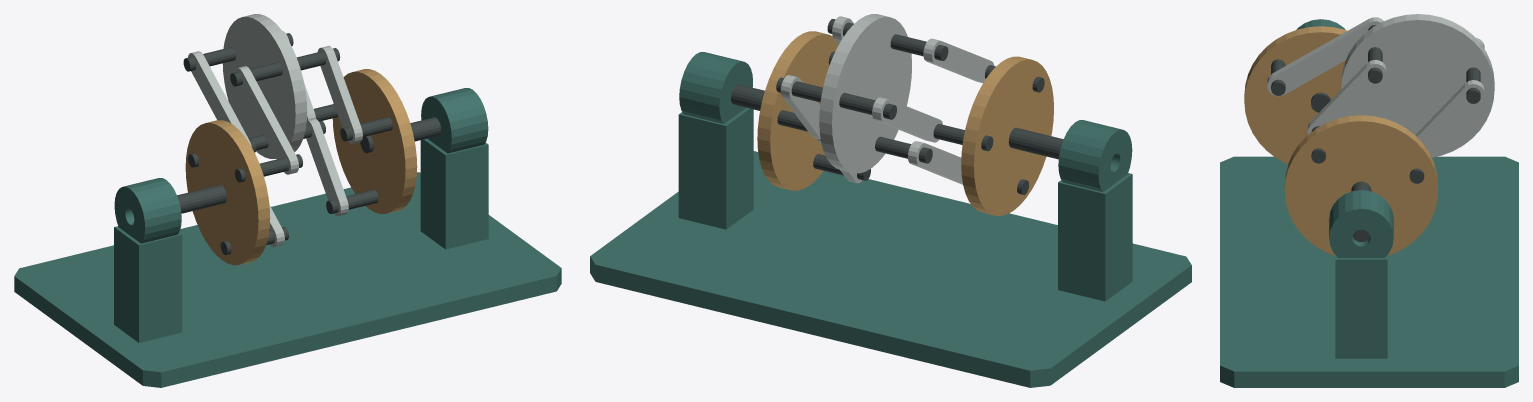
3 views of the same model, side by side, from view 1: azimuth 30°, elevation 25°; view 2: azimuth 150°, elevation 25°; view 3: azimuth 270°, elevation 25° (orthographic). The views are drawn at different scales.
Parts seen in each view (by area): view 1: WholeBroadChamferedBase, WholeOffsetCircularPlate_0, WholeOffsetCircularPlate_2, InputWholePedestal, OutputWholePedestal, WholeOffsetCircularPlate_1, InputWholeBoredBearing, OutputWholeBoredBearing, Layer0WholeLink_1, Layer1WholeLink_1, Layer1WholeLink_2, Layer0WholeLink_0 (+8 smaller); view 2: WholeBroadChamferedBase, WholeOffsetCircularPlate_0, WholeOffsetCircularPlate_1, InputWholePedestal, OutputWholePedestal, WholeOffsetCircularPlate_2, InputWholeBoredBearing, OutputWholeBoredBearing, Layer0WholeLink_0, Layer0WholeLink_1, Layer0WholeLink_2, Layer1WholeLink_0 (+7 smaller); view 3: WholeBroadChamferedBase, WholeOffsetCircularPlate_2, WholeOffsetCircularPlate_1, WholeOffsetCircularPlate_0, OutputWholePedestal, OutputWholeBoredBearing, Layer0WholeLink_1, Layer1WholeLink_0, Layer1WholeLink_1, Layer1WholeRetainedPin_1_A, Layer1WholeRetainedPin_0_A, Layer0WholeRetainedPin_1_A (+3 smaller).
Boxes of the visible parts, x1=… form: WholeBroadChamferedBase: x1=14, y1=172, x2=561, y2=387; WholeOffsetCircularPlate_0: x1=185, y1=120, x2=270, y2=265; WholeOffsetCircularPlate_2: x1=332, y1=69, x2=417, y2=213; InputWholePedestal: x1=114, y1=226, x2=182, y2=342; OutputWholePedestal: x1=420, y1=138, x2=488, y2=249; WholeOffsetCircularPlate_1: x1=222, y1=14, x2=307, y2=158; InputWholeBoredBearing: x1=114, y1=178, x2=181, y2=243; OutputWholeBoredBearing: x1=421, y1=88, x2=488, y2=153; Layer0WholeLink_1: x1=234, y1=66, x2=298, y2=174; Layer1WholeLink_1: x1=317, y1=46, x2=362, y2=143; Layer1WholeLink_2: x1=306, y1=119, x2=348, y2=216; Layer0WholeLink_0: x1=188, y1=51, x2=251, y2=146; WholeBroadChamferedBase: x1=590, y1=151, x2=1191, y2=387; WholeOffsetCircularPlate_0: x1=961, y1=56, x2=1053, y2=215; WholeOffsetCircularPlate_1: x1=819, y1=14, x2=911, y2=173; InputWholePedestal: x1=1058, y1=173, x2=1132, y2=301; OutputWholePedestal: x1=678, y1=107, x2=753, y2=229; WholeOffsetCircularPlate_2: x1=757, y1=31, x2=838, y2=190; InputWholeBoredBearing: x1=1058, y1=120, x2=1132, y2=191; OutputWholeBoredBearing: x1=679, y1=52, x2=752, y2=123; Layer0WholeLink_0: x1=872, y1=97, x2=942, y2=142; Layer0WholeLink_1: x1=923, y1=38, x2=994, y2=82; Layer0WholeLink_2: x1=908, y1=141, x2=962, y2=184; Layer1WholeLink_0: x1=780, y1=75, x2=820, y2=138; WholeBroadChamferedBase: x1=1220, y1=156, x2=1518, y2=387; WholeOffsetCircularPlate_2: x1=1284, y1=115, x2=1437, y2=255; WholeOffsetCircularPlate_1: x1=1341, y1=14, x2=1494, y2=157; WholeOffsetCircularPlate_0: x1=1244, y1=26, x2=1347, y2=164; OutputWholePedestal: x1=1335, y1=255, x2=1387, y2=358; OutputWholeBoredBearing: x1=1329, y1=190, x2=1393, y2=257; Layer0WholeLink_1: x1=1267, y1=17, x2=1383, y2=96; Layer1WholeLink_0: x1=1415, y1=80, x2=1484, y2=153; Layer1WholeLink_1: x1=1307, y1=59, x2=1386, y2=134; Layer1WholeRetainedPin_1_A: x1=1368, y1=49, x2=1382, y2=83; Layer1WholeRetainedPin_0_A: x1=1466, y1=67, x2=1480, y2=103; Layer0WholeRetainedPin_1_A: x1=1271, y1=59, x2=1285, y2=95.
Bounding box in the file's own units: 1.26 × 0.72 × 0.74.
